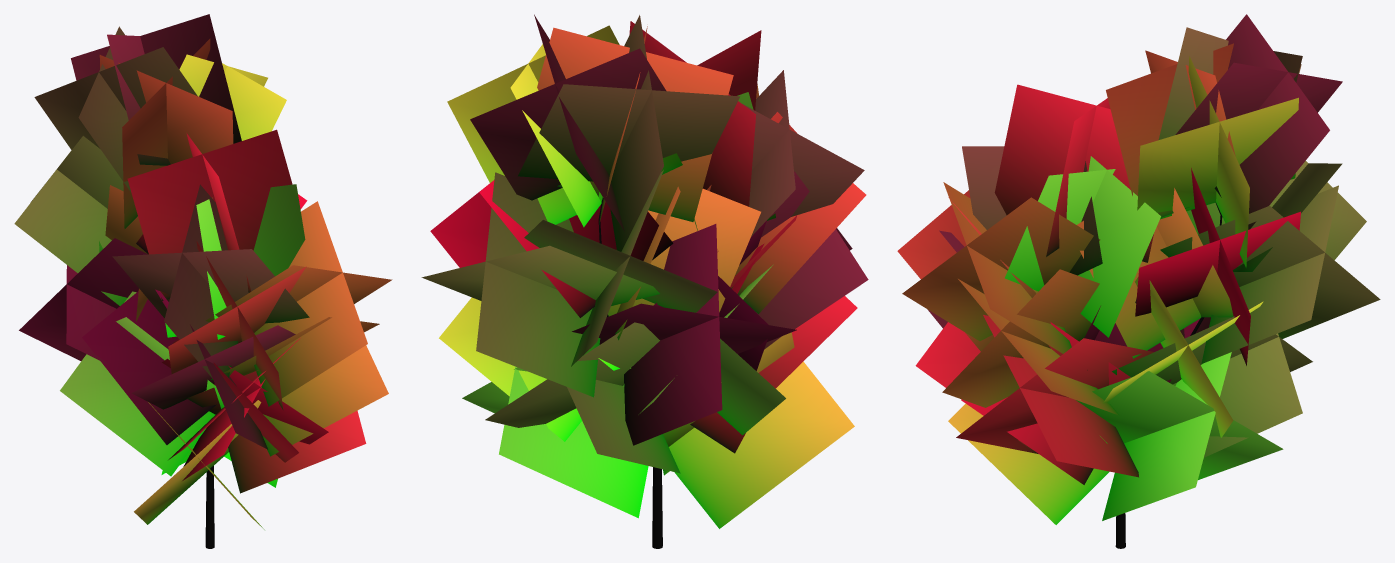
Rendered from Tree_18.fbx.
3 renders of one model, left to right at view 1: azimuth 30°, elevation 25°; view 2: azimuth 150°, elevation 25°; view 3: azimuth 270°, elevation 25°, orthographic. The views are drawn at different scales.
Parts seen in each view (by area): view 1: Tree_18; view 2: Tree_18; view 3: Tree_18.
Part boxes in pixels (x1,y1,x2,y2): Tree_18: (14,14,392,548); Tree_18: (421,14,868,548); Tree_18: (897,14,1380,548).
Bounding box in the file's own units: 397 × 673 × 577.
